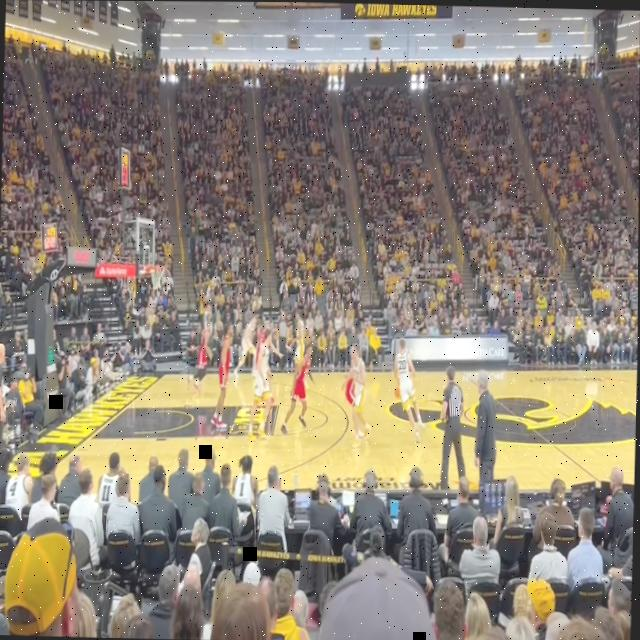ball: (394, 385, 401, 398)
basket: (149, 264, 166, 289)
game clock: (47, 227, 56, 236)
head coach: (473, 370, 500, 480)
player-iowa: (392, 336, 429, 443), (342, 342, 374, 447), (247, 327, 275, 442), (290, 308, 310, 397), (233, 313, 258, 380)
player-neb: (280, 342, 317, 436), (211, 322, 234, 429), (254, 318, 286, 392), (186, 320, 214, 394), (344, 351, 368, 436)
referee: (437, 367, 468, 489), (273, 310, 290, 374), (0, 343, 7, 467)
shot clock: (46, 236, 54, 248)
